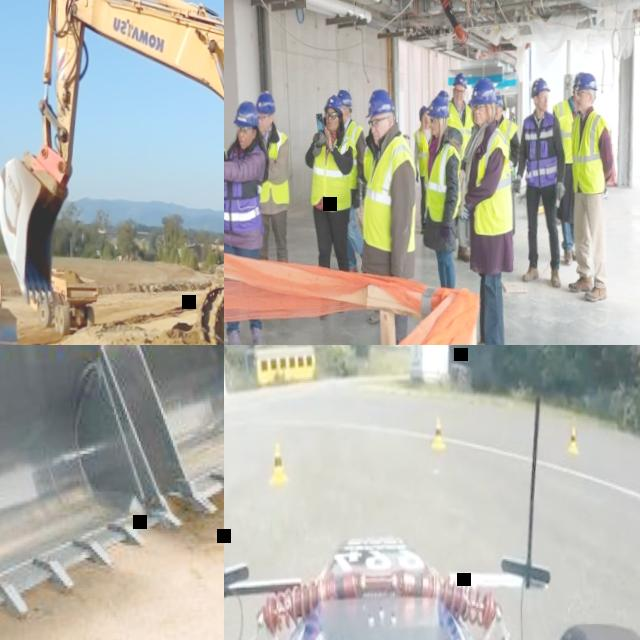Hardhat: (364, 87, 393, 117), (469, 75, 496, 104), (233, 98, 259, 127), (426, 94, 448, 118), (256, 89, 276, 113), (530, 75, 551, 96), (324, 92, 344, 114), (574, 71, 597, 90), (337, 88, 353, 107), (452, 71, 467, 87), (418, 104, 430, 120), (494, 93, 505, 106), (574, 70, 584, 82), (437, 89, 450, 98)
NO-Mask: (372, 128, 383, 143), (475, 112, 487, 123), (325, 120, 337, 130), (239, 136, 249, 148), (577, 98, 586, 109), (538, 101, 548, 110), (455, 95, 464, 104), (258, 123, 268, 131), (431, 126, 439, 134), (494, 111, 501, 120), (426, 116, 430, 122)
Person: (353, 85, 423, 345), (454, 74, 518, 345), (507, 73, 570, 288), (561, 69, 618, 301), (302, 92, 360, 318), (224, 97, 272, 345), (415, 94, 466, 287), (550, 71, 590, 265), (254, 90, 293, 262), (444, 71, 479, 262), (335, 87, 369, 270), (494, 92, 523, 236), (412, 103, 434, 233), (362, 128, 376, 182), (438, 87, 450, 109)
Safety Cone: (268, 442, 289, 485), (430, 418, 446, 450), (567, 424, 578, 452)
Safety Vest: (359, 131, 420, 252), (470, 126, 514, 235), (224, 142, 270, 231), (308, 131, 358, 211), (570, 107, 611, 193), (420, 143, 463, 221), (521, 109, 557, 187), (256, 128, 290, 204), (447, 99, 475, 159), (552, 97, 576, 161), (343, 120, 365, 186), (498, 117, 521, 180), (412, 128, 429, 177)
vehicle: (224, 371, 640, 640), (0, 0, 224, 345), (0, 345, 187, 640), (0, 345, 224, 563), (27, 261, 100, 335), (0, 265, 20, 345)
